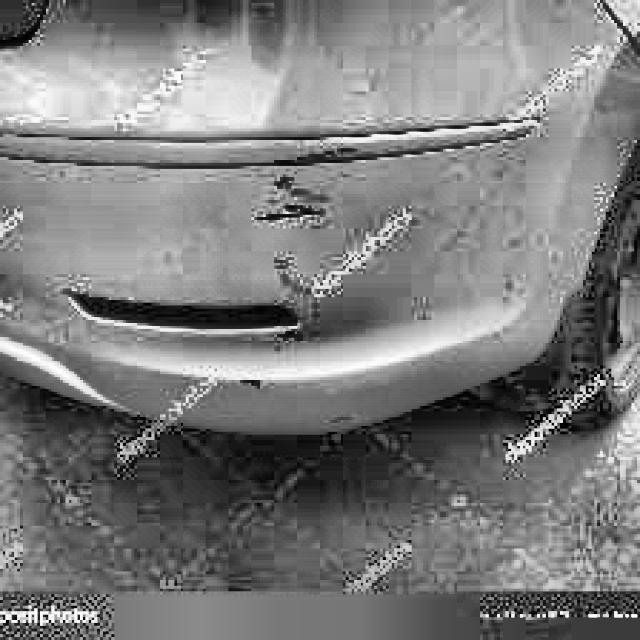bumper_scratch: (253, 142, 326, 237), (221, 359, 284, 407)
